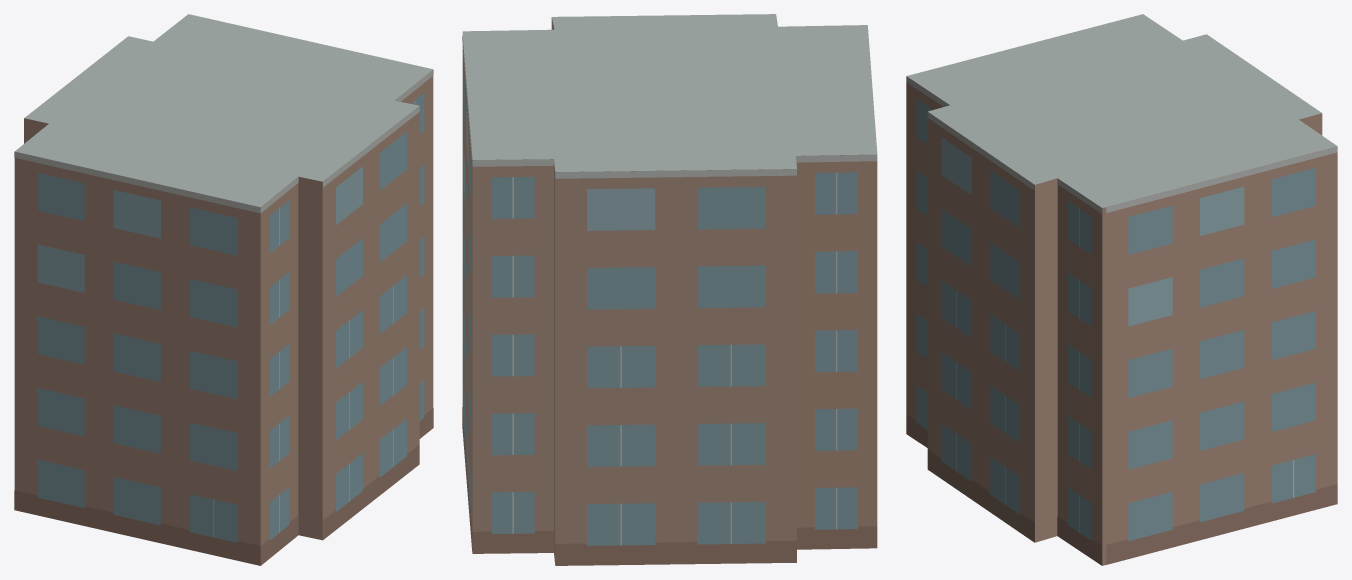
The model's file is survey-upis-32615275.glb.
The picture shows the model from 3 angles, left to right: view 1: azimuth 30°, elevation 25°; view 2: azimuth 150°, elevation 25°; view 3: azimuth 270°, elevation 25°; orthographic projection. The views are drawn at different scales.
Parts seen in each view (by area): view 1: survey-upis-32615275.tmp; view 2: survey-upis-32615275.tmp; view 3: survey-upis-32615275.tmp.
Part boxes in pixels (box(x1,y1,x2,y2)): survey-upis-32615275.tmp: box(14, 14, 433, 565); survey-upis-32615275.tmp: box(462, 14, 877, 565); survey-upis-32615275.tmp: box(906, 14, 1337, 565).
Size of the model in its own units: 16.63 by 14.3 by 15.63.
